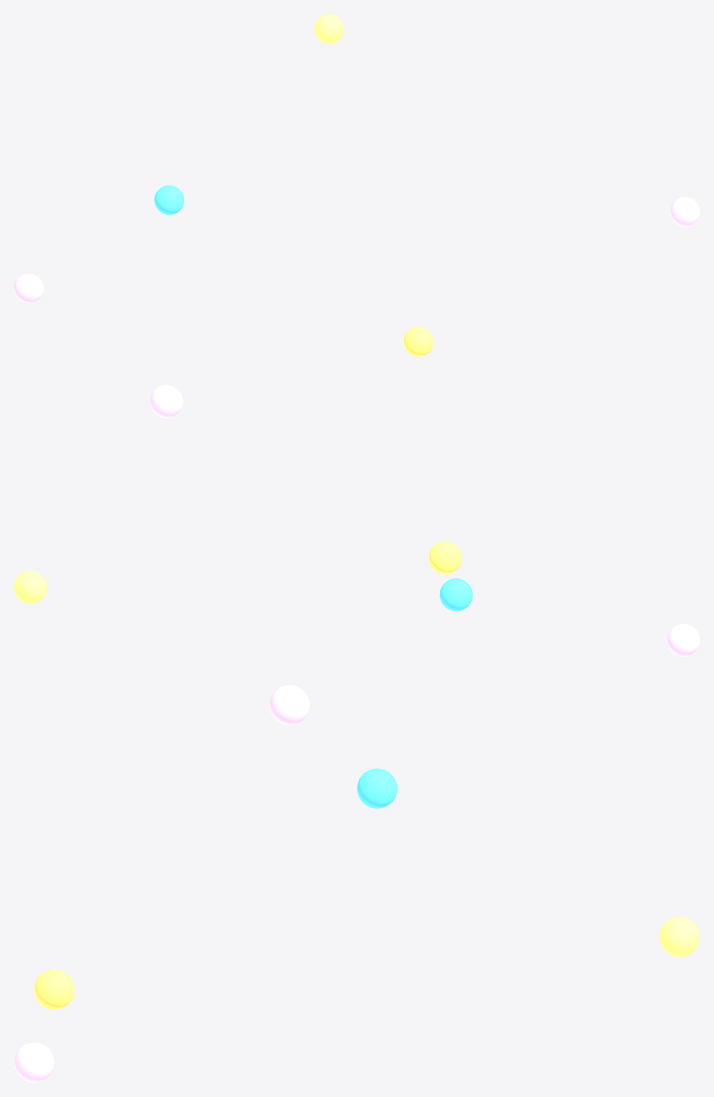
File: balls.glb
3 views of the same model, one above another, from view 1: azimuth 30°, elevation 25°; view 2: azimuth 150°, elevation 25°; view 3: azimuth 270°, elevation 25° (orthographic). The views are drawn at different scales.
Visible parts, largest first — view 1: ball2, ball5, ball3, ball4, ball1; view 2: ball1, ball4, ball5, ball2, ball3; view 3: ball4, ball2, ball1, ball3, ball5.
Boxes of the visible parts, left/top/right/bottom form: ball2: left=670, top=197, right=699, bottom=226; ball5: left=314, top=14, right=343, bottom=43; ball3: left=14, top=273, right=43, bottom=303; ball4: left=154, top=185, right=183, bottom=214; ball1: left=403, top=327, right=433, bottom=356; ball1: left=428, top=541, right=461, bottom=574; ball4: left=439, top=578, right=472, bottom=611; ball5: left=14, top=570, right=46, bottom=603; ball2: left=150, top=385, right=182, bottom=418; ball3: left=667, top=623, right=699, bottom=656; ball4: left=357, top=768, right=397, bottom=808; ball2: left=14, top=1042, right=54, bottom=1082; ball1: left=34, top=969, right=74, bottom=1009; ball3: left=269, top=685, right=309, bottom=725; ball5: left=659, top=917, right=699, bottom=957.
Size of the model in its own units: 1.36 by 0.3 by 1.02.
